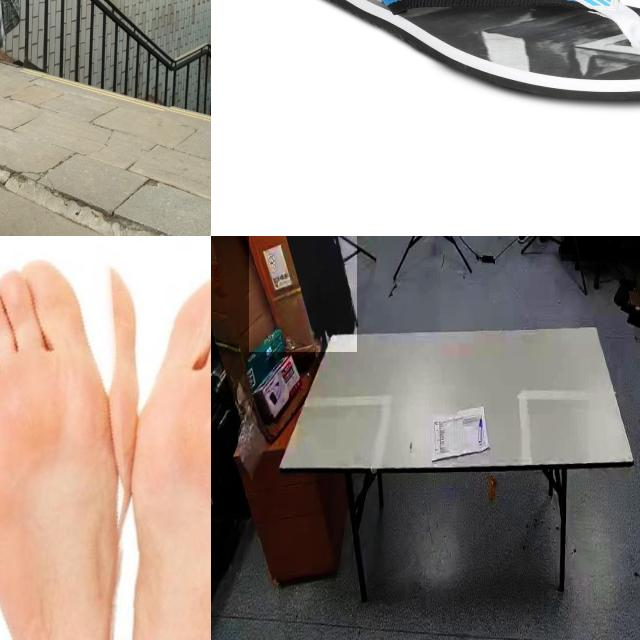Barefoots: (0, 237, 209, 640), (63, 262, 211, 640)
Sandals: (290, 0, 640, 103)
person: (248, 236, 357, 352)
shoes: (516, 236, 535, 248)
